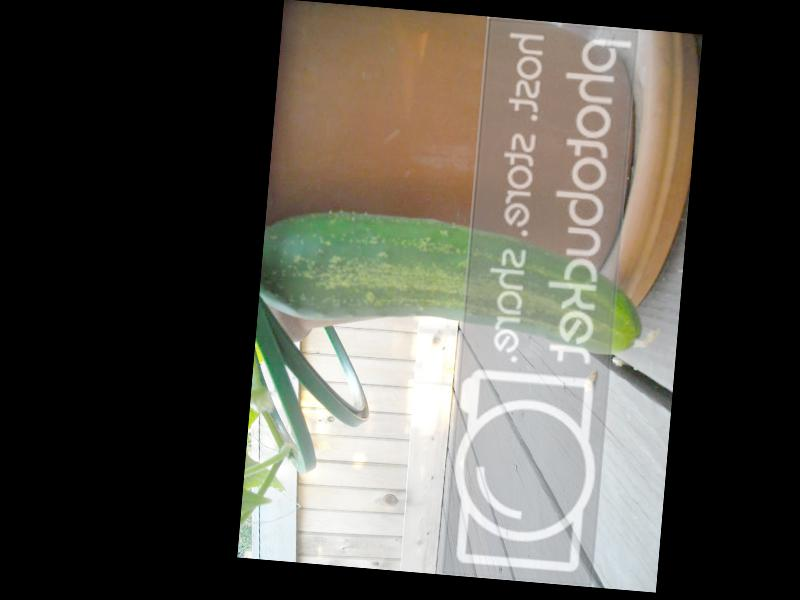Cucumber: (260, 205, 666, 358)
